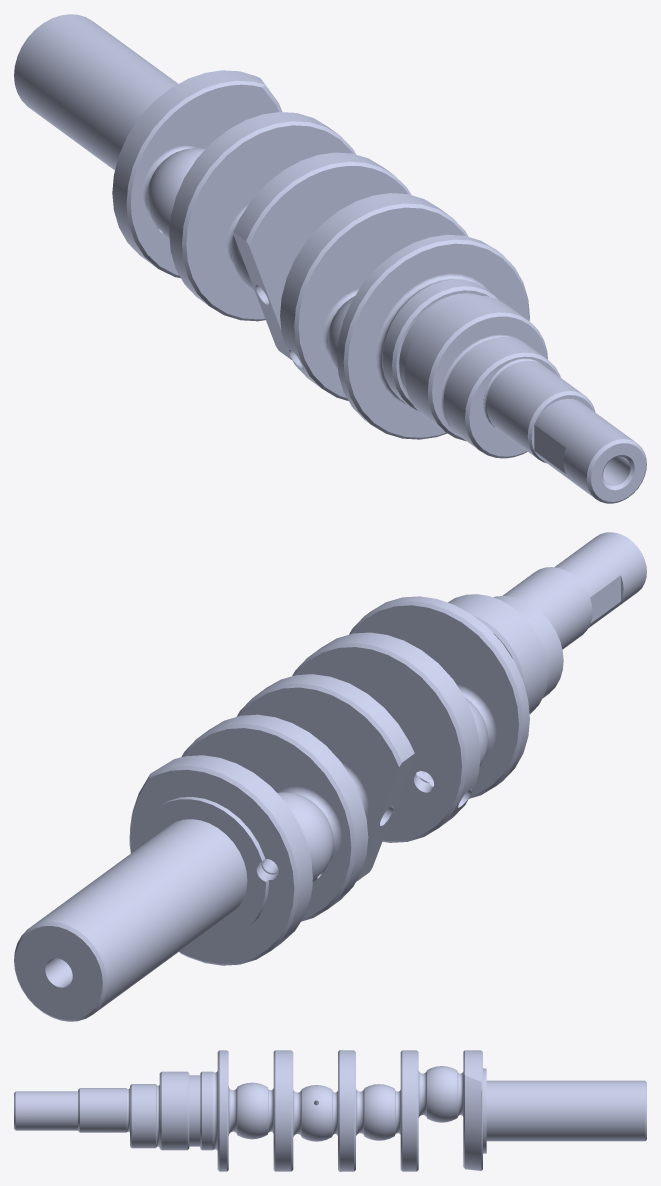
Rendered from ben工件改.FBX.
3 renders of one model, top to bottom at view 1: azimuth 30°, elevation 25°; view 2: azimuth 150°, elevation 25°; view 3: azimuth 270°, elevation 25°, orthographic. The views are drawn at different scales.
Size of the model in its own units: 1.34 by 1.34 by 6.96.
